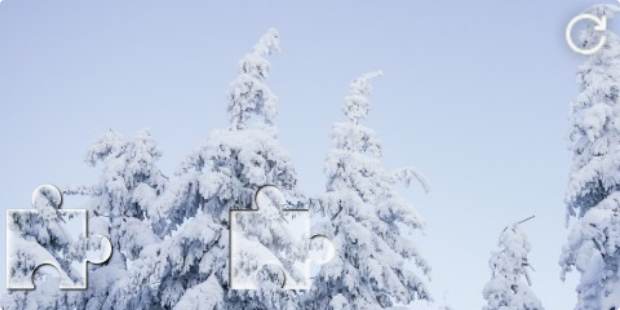target: (229, 184, 334, 291)
